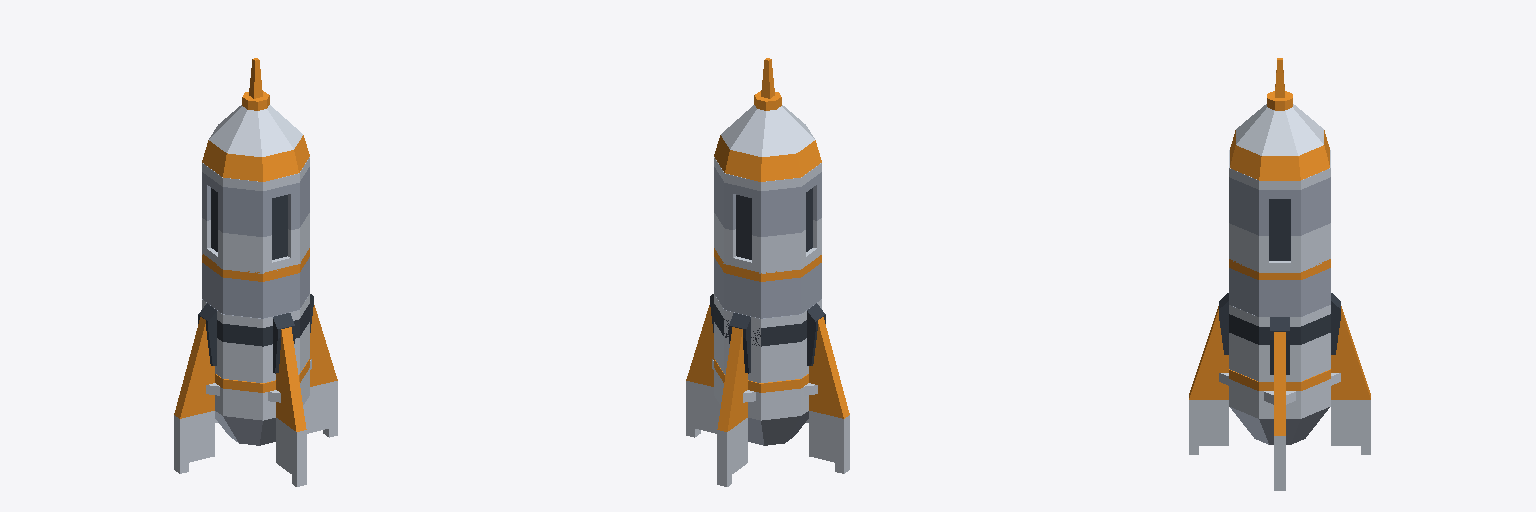
The model's file is rocket.obj.
The picture shows the model from 3 angles: view 1: azimuth 30°, elevation 25°; view 2: azimuth 150°, elevation 25°; view 3: azimuth 270°, elevation 25°; orthographic projection.
Visible parts, largest first — view 1: rocket_topB:rocket_topB1; view 2: rocket_topB:rocket_topB1; view 3: rocket_topB:rocket_topB1.
Part boxes in pixels (left/top/right/bottom): rocket_topB:rocket_topB1: left=174, top=58, right=337, bottom=486; rocket_topB:rocket_topB1: left=686, top=58, right=849, bottom=486; rocket_topB:rocket_topB1: left=1189, top=58, right=1370, bottom=490.
Size of the model in its own units: 1.8 by 4.28 by 1.8.